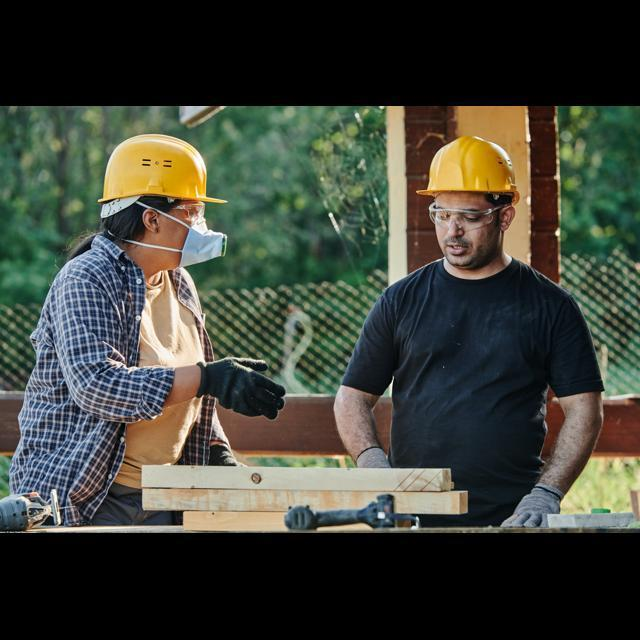Capacete: (98, 134, 226, 202), (416, 136, 518, 203)
Oculos: (429, 202, 507, 229), (173, 202, 204, 224)
